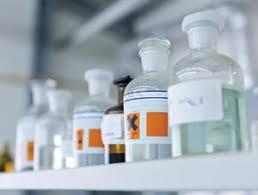Iv_Bottle: (168, 11, 247, 156), (124, 38, 170, 161), (73, 69, 113, 166), (15, 79, 56, 170), (34, 89, 71, 170), (101, 76, 131, 163), (250, 119, 257, 151)
